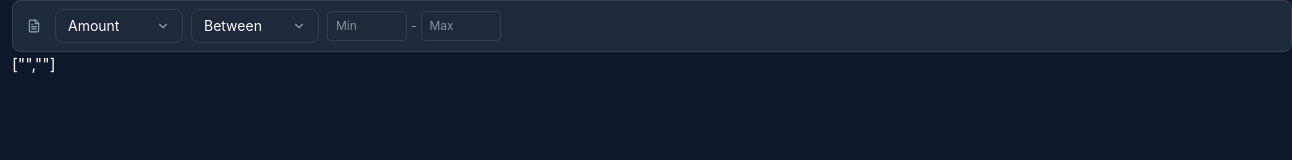
it: RuleBuilder amount input › captures a negative number typed into the 'between' min input
The image size is (1292, 160).
In the field with placeholder "Min": (367, 26) x1=327 y1=11 x2=407 y2=41, type "-50"
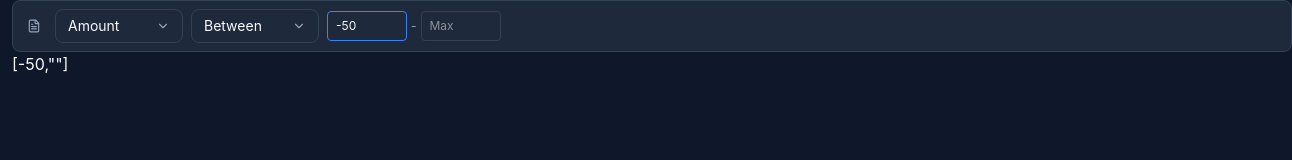
Now the text with test id "captured-value" reads "[-50,\"\"]", box x1=12 y1=54 x2=68 y2=74
